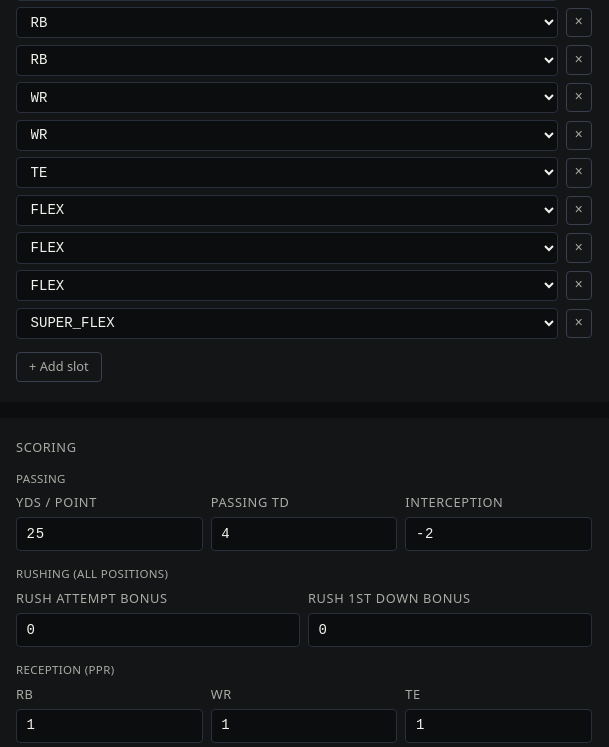
Test: NewDraftPage — roster settings and lineup › adds a FLEX slot when Add slot is clicked, sorted into the FLEX group
(page scrolled)
Click the button with test id "add-lineup-slot". click: (59, 367)
box: [16,352,102,382]
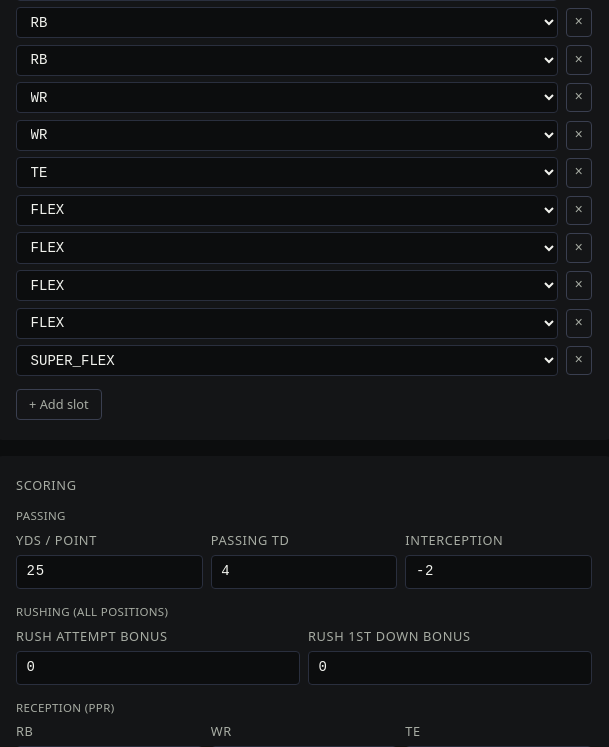
Result: the dropdown with test id "lineup-slot-9" shows "FLEX" at [16,308,558,339]
Result: the dropdown with test id "lineup-slot-10" shows "SUPER_FLEX" at [16,345,558,376]
